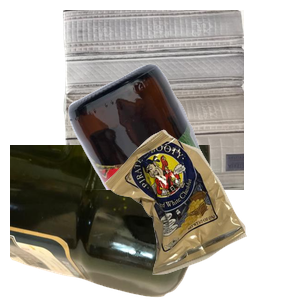glass: (66, 61, 300, 241)
paper: (60, 10, 300, 190)
plastic: (10, 145, 213, 300)
trash: (101, 127, 300, 300)
